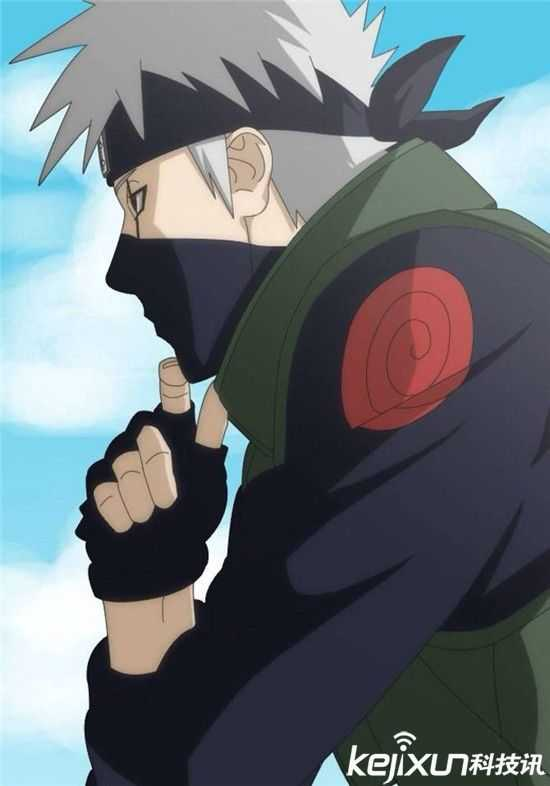kakashi: (97, 53, 385, 385)
